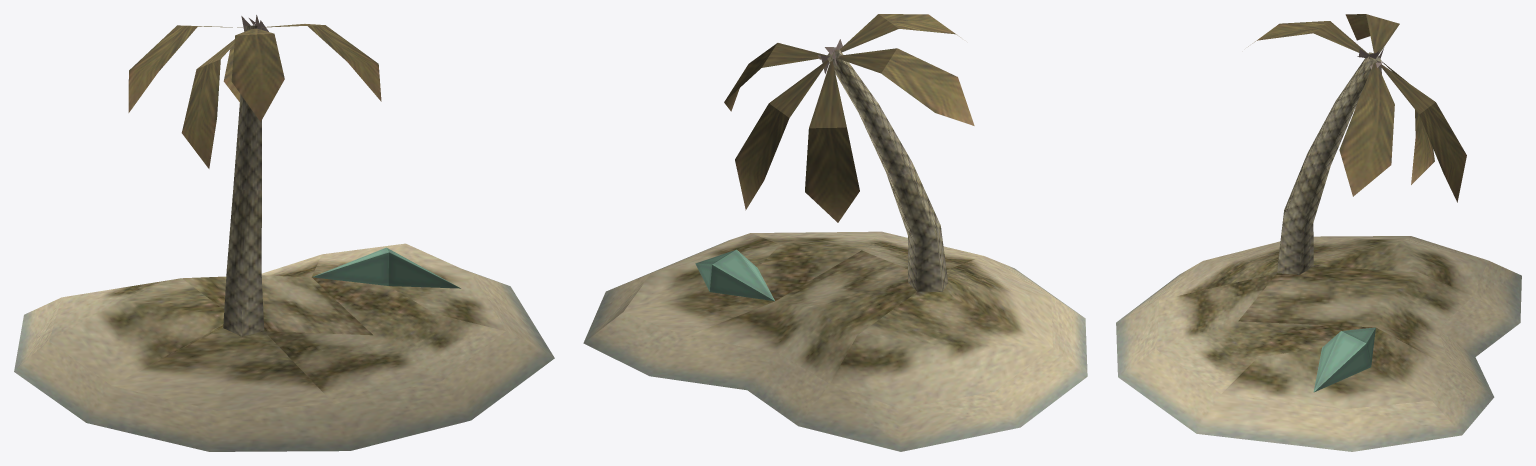
Rendered from deleteicon.ico.obj.
The picture shows the model from 3 angles, left to right: view 1: azimuth 30°, elevation 25°; view 2: azimuth 150°, elevation 25°; view 3: azimuth 270°, elevation 25°; orthographic projection. The views are drawn at different scales.
Bounding box in the file's own units: 4.88 × 3.35 × 4.06.
Materials: 1 (1 with a texture image).
